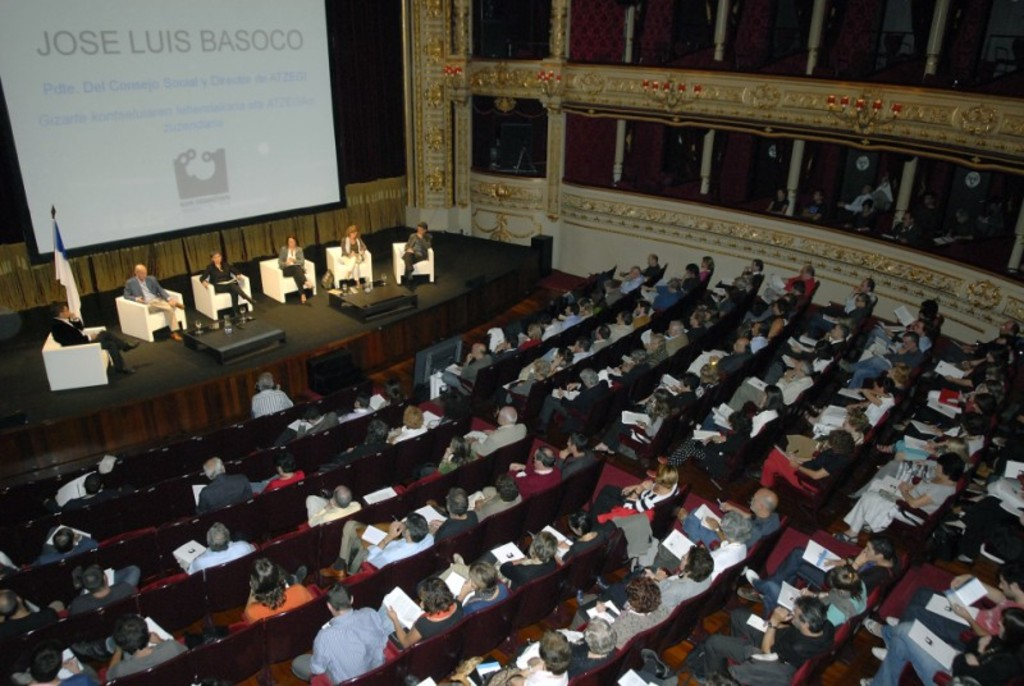Person: (0, 181, 1024, 686)
